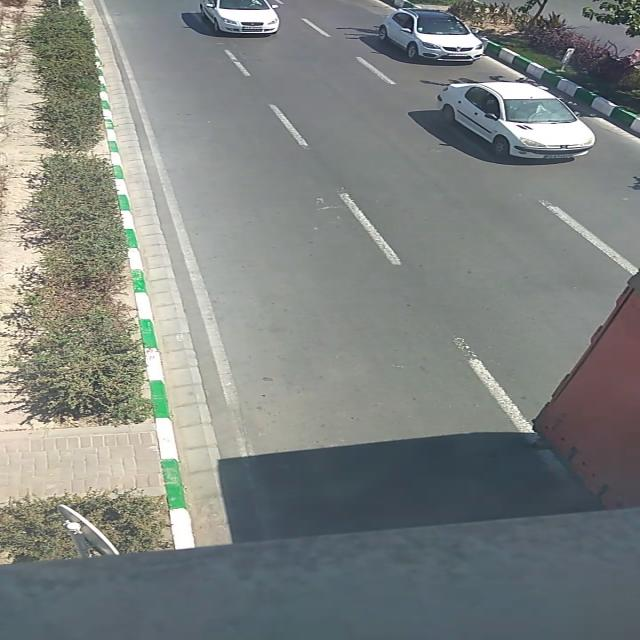car: (439, 81, 594, 161), (377, 8, 488, 62), (200, 0, 283, 38)
